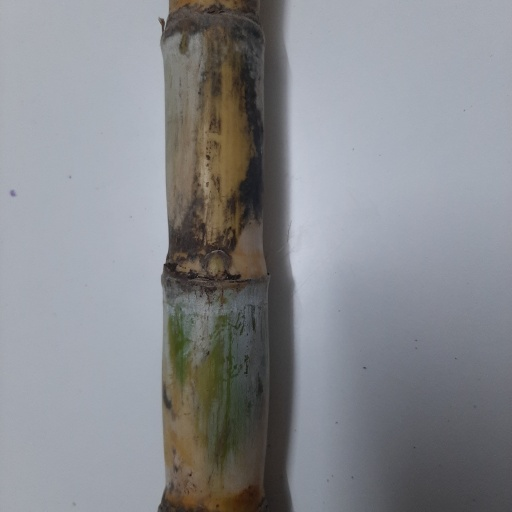Bud: (204, 250, 232, 280)
